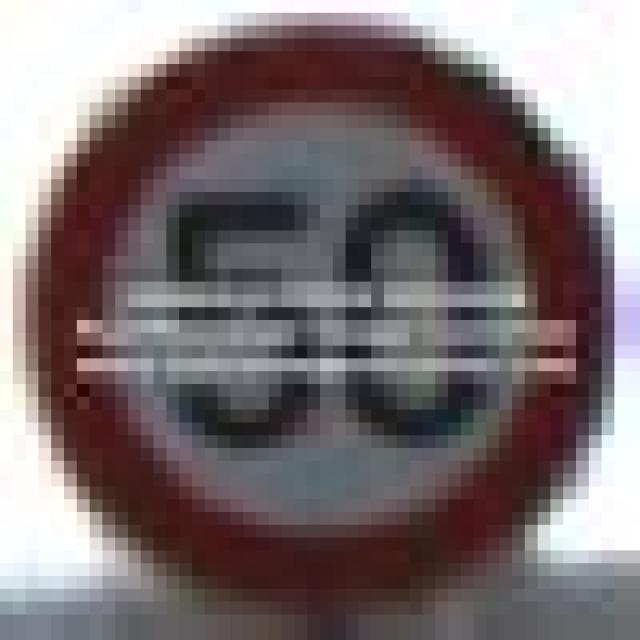SPEED_LIMIT_50: (26, 12, 602, 602)
